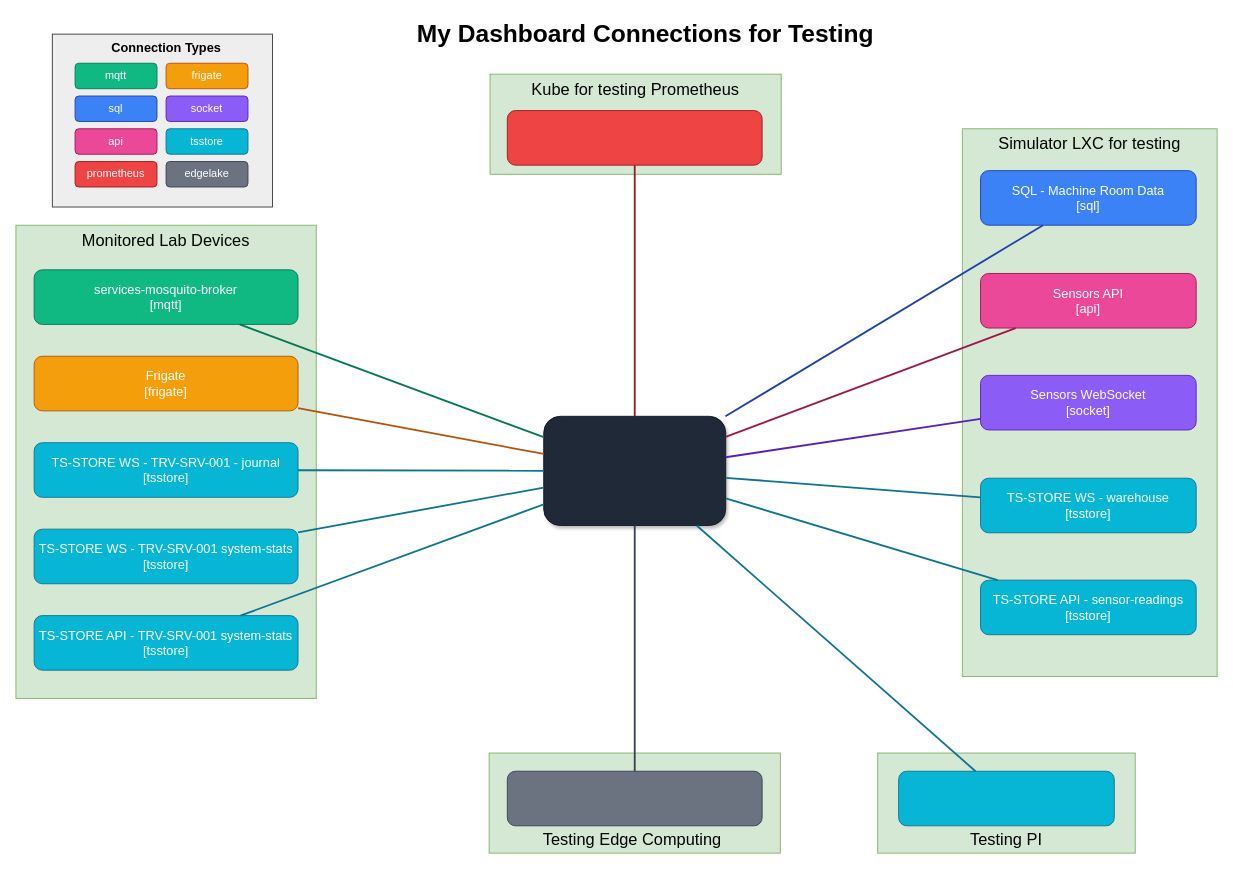
This 1233x869 diagram has some shape labels left out. Here are the shapes that lost their labels. From the top down, the centre of each, then its label:
At (634,137): "TRV-SRV-001 K3S Prometheus [prometheus]".
At (635,472): "Dashboard".
At (634,798): "Homelab EL [edgelake]".
At (1006,798): "TS-STORE API - PI senshat [tsstore]".
